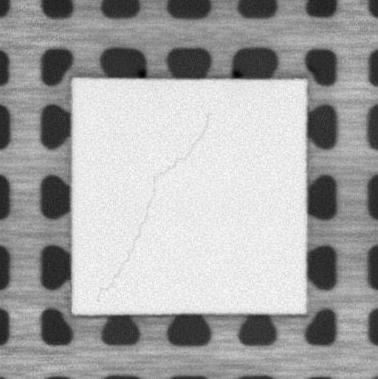DIE_CRACK: (97, 113, 212, 301)
